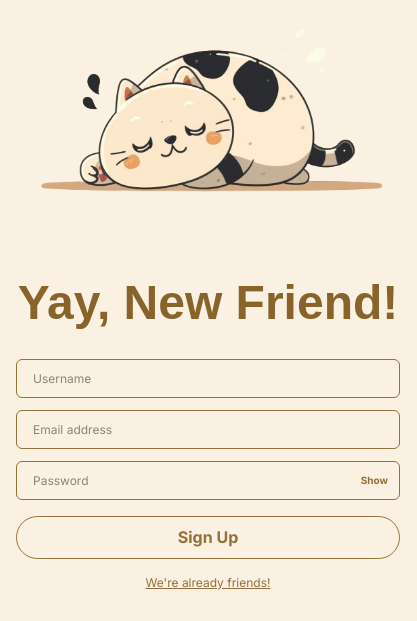
Scenario: RegisterPage › shows the first API error message on registration failure
This screenshot has width=417, height=621.
Type "existinguser" into the field with placeholder "Username" at (208, 378), box [16, 359, 400, 398]
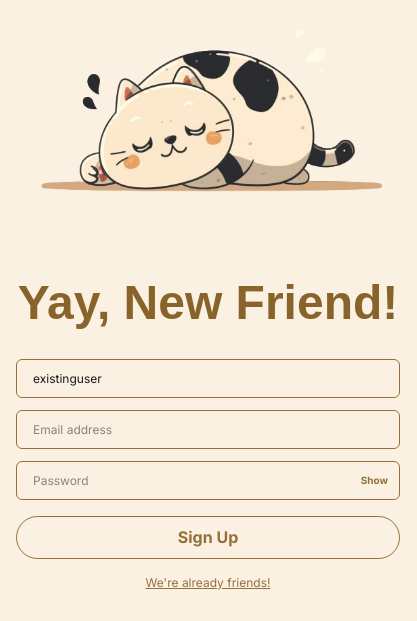
Type "test@example.com" into the field with placeholder "Email address" at (208, 429), box [16, 410, 400, 449]
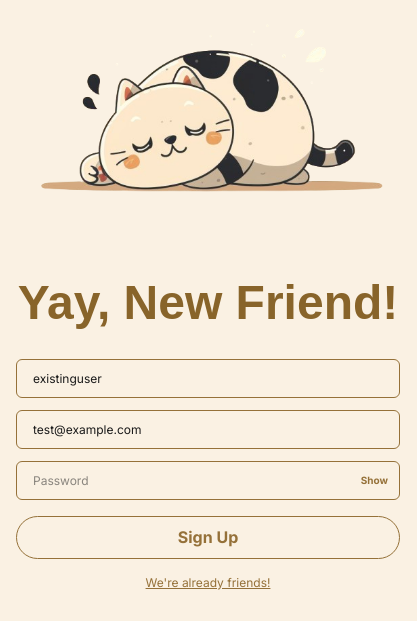
Type "password123" into the password field with placeholder "Password" at (208, 480), box [16, 461, 400, 500]
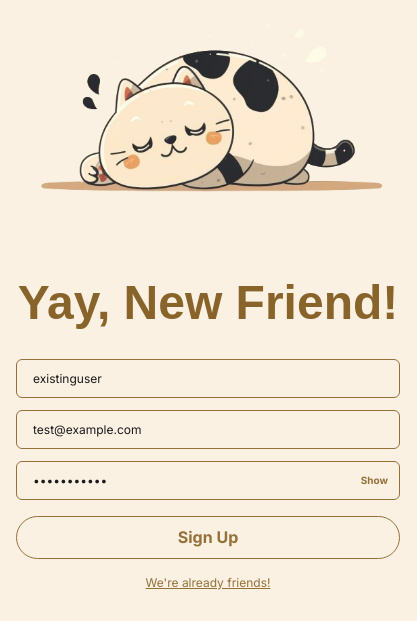
Click the button "Sign Up" at (208, 537), box [16, 516, 400, 559]
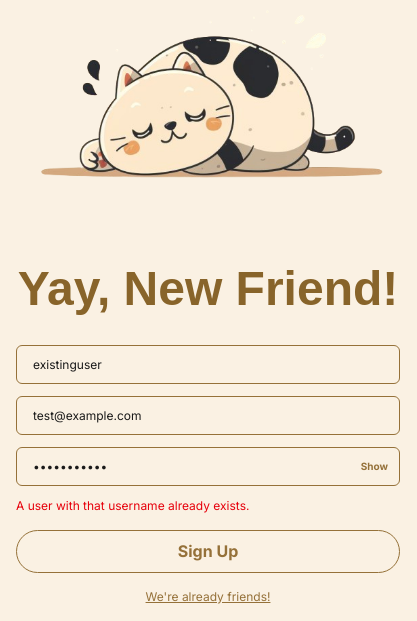
Result: the text "A user with that username already exists." is shown at [16, 498, 250, 513]
